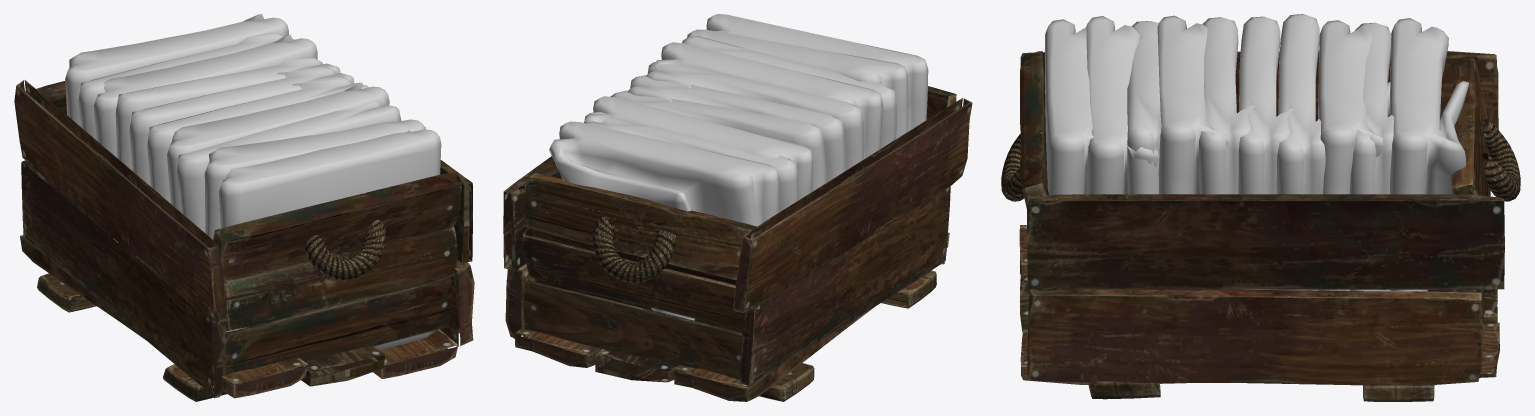
3 renders of one model, left to right at view 1: azimuth 30°, elevation 25°; view 2: azimuth 150°, elevation 25°; view 3: azimuth 270°, elevation 25°, orthographic. The views are drawn at different scales.
Parts seen in each view (by area): view 1: SM_Dec_Garou_Chest_Cloth_Padded_Small_LOD0; view 2: SM_Dec_Garou_Chest_Cloth_Padded_Small_LOD0; view 3: SM_Dec_Garou_Chest_Cloth_Padded_Small_LOD0.
Boxes of the visible parts, x1,y1,x2,y2 form: SM_Dec_Garou_Chest_Cloth_Padded_Small_LOD0: [14, 14, 474, 401]; SM_Dec_Garou_Chest_Cloth_Padded_Small_LOD0: [503, 14, 972, 401]; SM_Dec_Garou_Chest_Cloth_Padded_Small_LOD0: [1001, 14, 1520, 401].
Size of the model in its own units: 0.6922 by 0.5503 by 0.9929.
